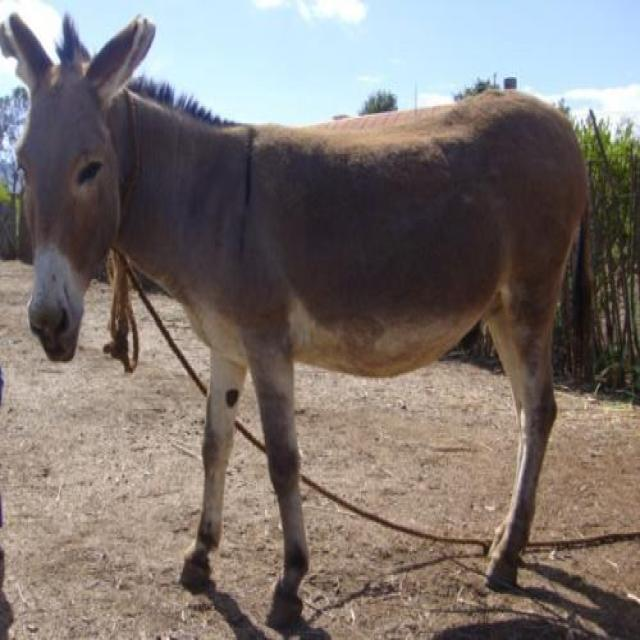Donkey: (8, 13, 589, 625)
